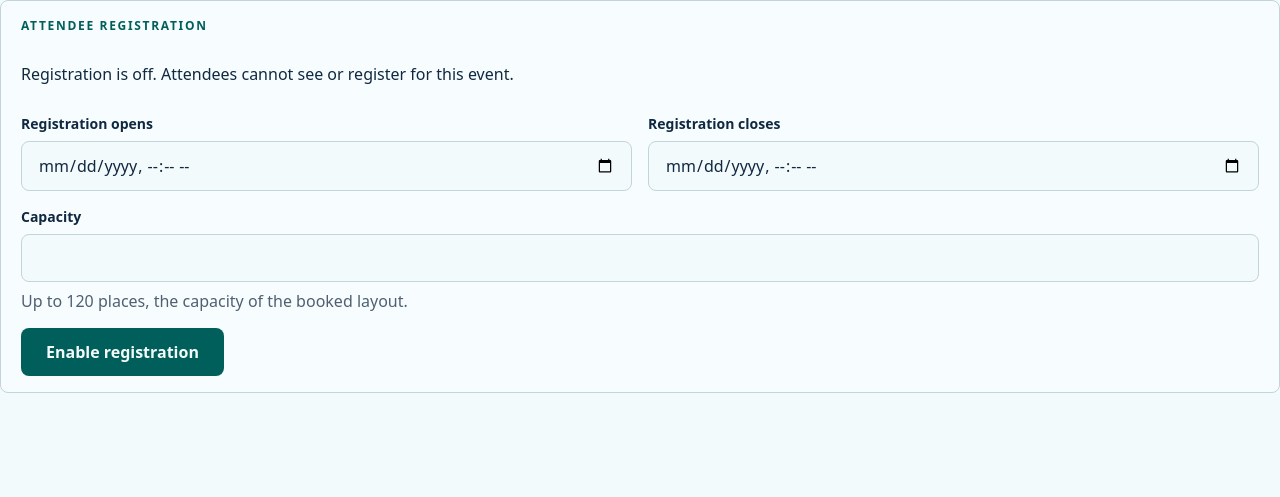
Test: [TC-SPL-114-19] saves Singapore times and a whole-number capacity, then shows the saved settings
expect the button "Enable registration" is shown: met, box left=21, top=328, right=224, bottom=376
Type "2026-10-10T09:00" into the field labelled "Registration opens" at (326, 166), box left=21, top=141, right=632, bottom=191
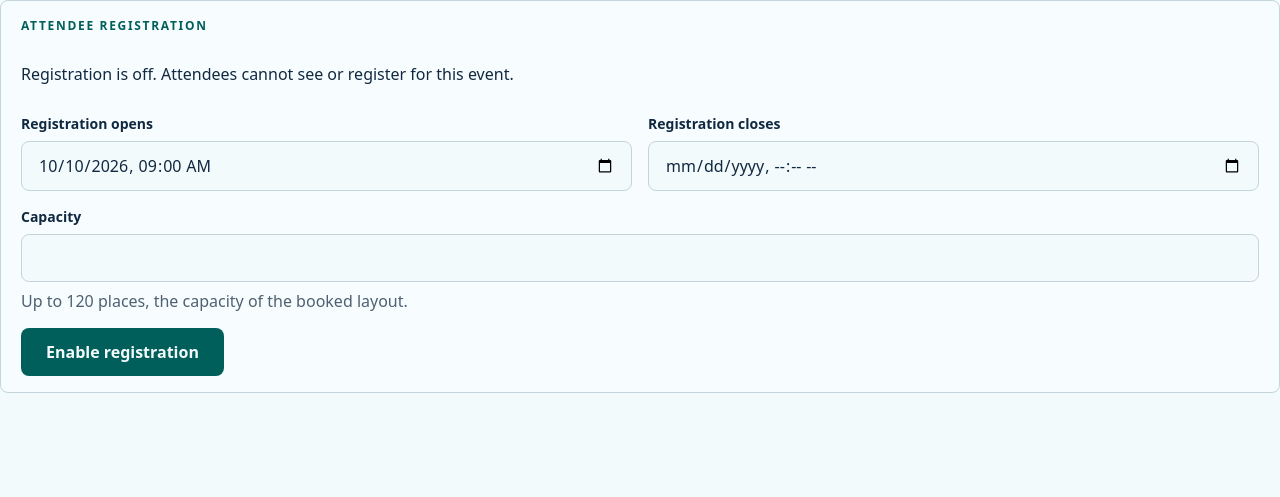
Type "2026-11-19T18:00" into the field labelled "Registration closes" at (954, 166), box left=648, top=141, right=1259, bottom=191
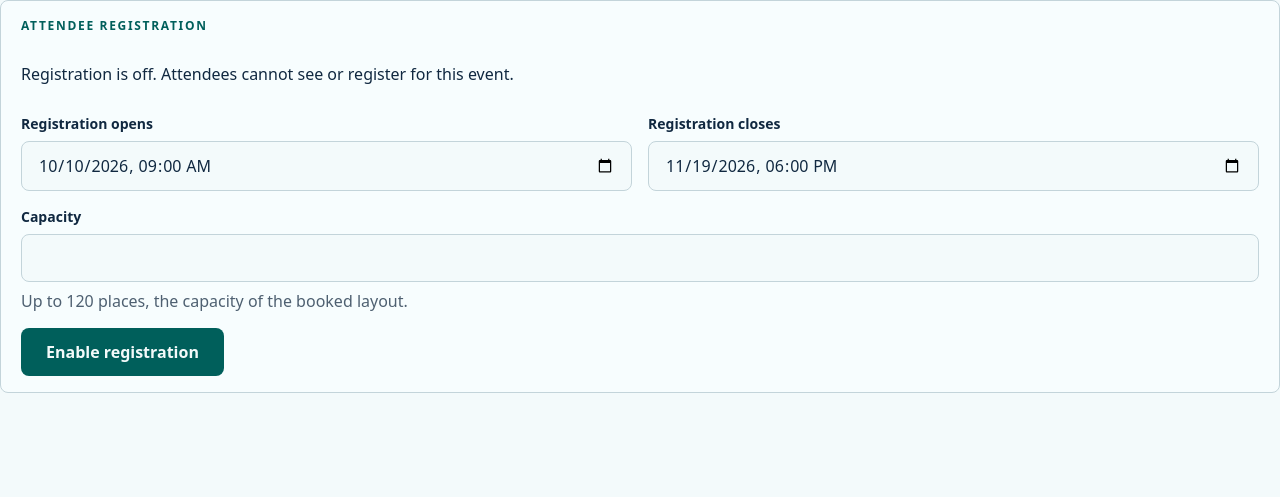
Type "100" into the number field labelled "Capacity" at (640, 258), box left=21, top=234, right=1259, bottom=282
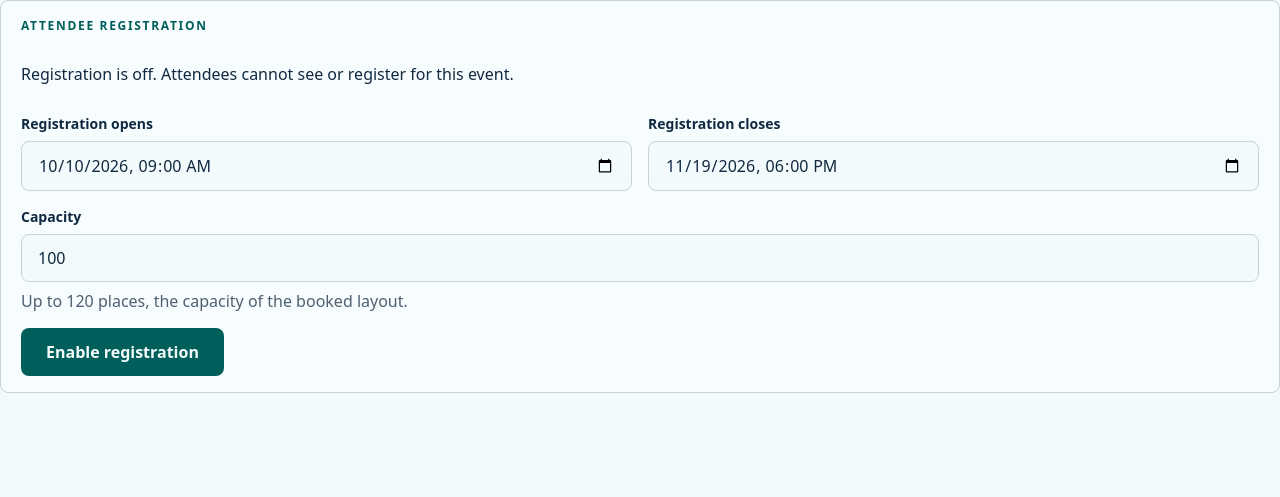
Click the button "Enable registration" at (122, 352), box left=21, top=328, right=224, bottom=376
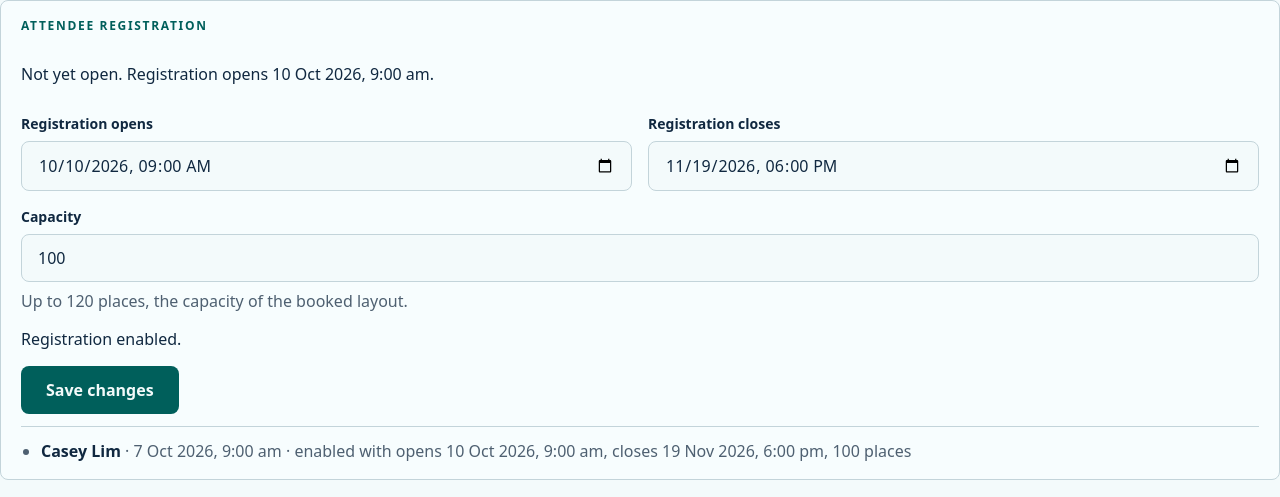
expect the message reads "Registration enabled.": met, box left=21, top=328, right=181, bottom=350
expect the button "Save changes" is shown: met, box left=21, top=366, right=179, bottom=414
expect the text "Not yet open. Registration opens 10 Oct 2026, 9:00 am." is shown: met, box left=21, top=63, right=434, bottom=85
